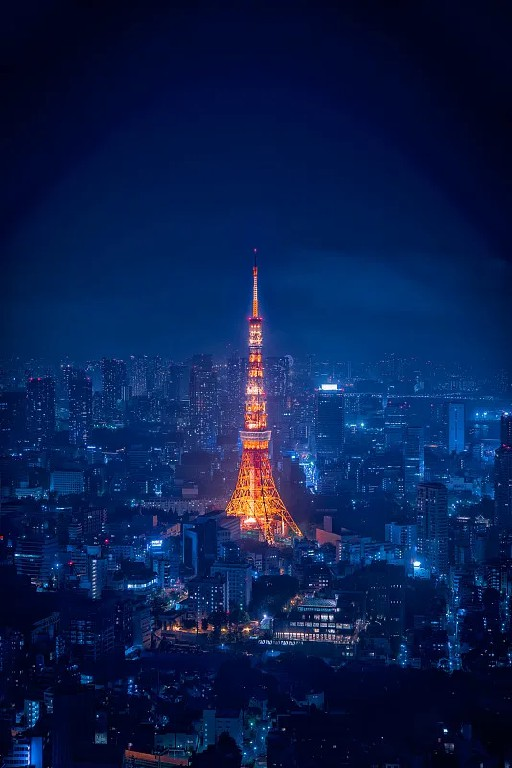Tokyo: (222, 239, 304, 551)
